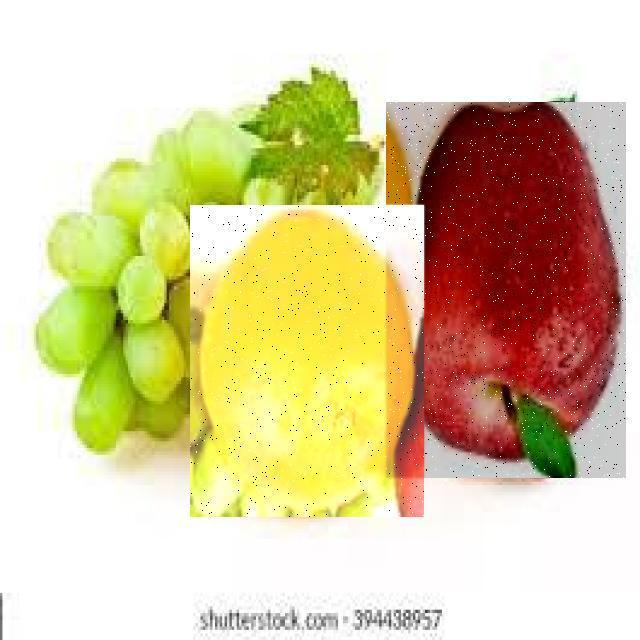apple: (73, 239, 640, 640)
orange: (0, 258, 402, 640)
